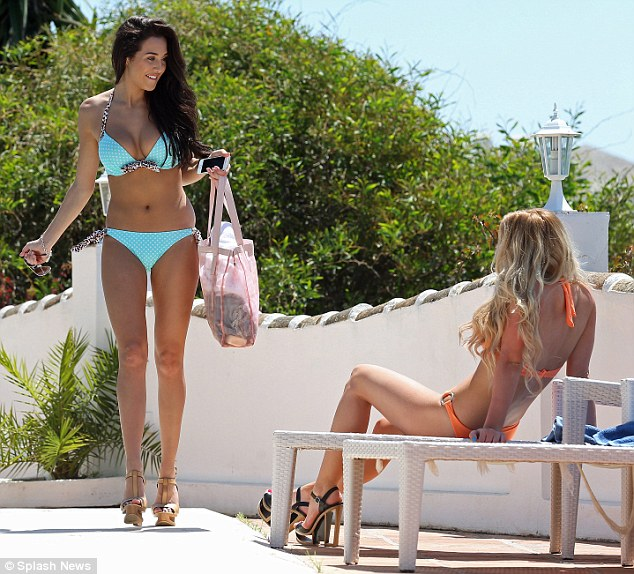Person: (250, 211, 617, 548), (14, 12, 244, 537)
